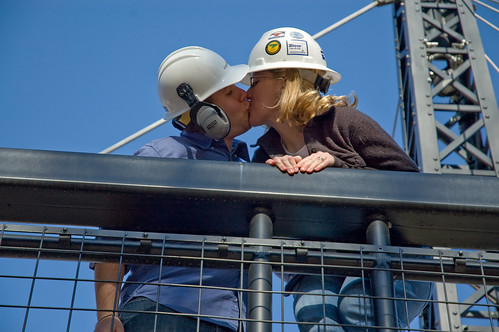person hardhat: (243, 22, 420, 330), (111, 43, 253, 330)
